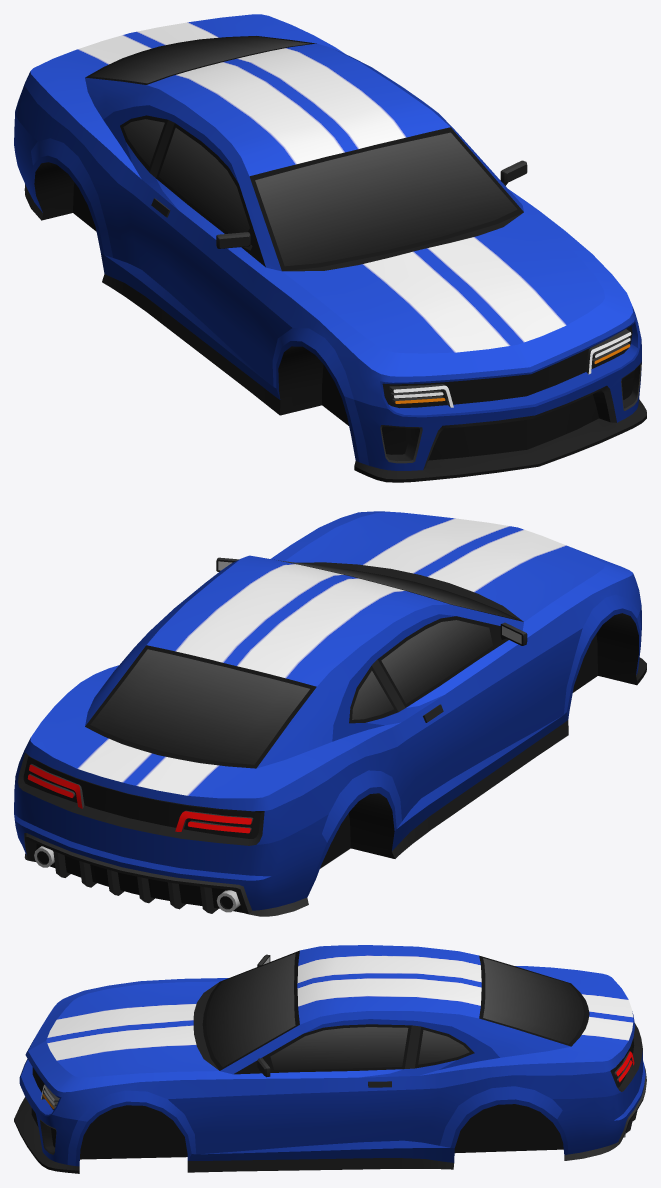
Rendered from BlueCar.fbx.
The picture shows the model from 3 angles, top to bottom: view 1: azimuth 30°, elevation 25°; view 2: azimuth 150°, elevation 25°; view 3: azimuth 270°, elevation 25°; orthographic projection. The views are drawn at different scales.
Visible parts, largest first — view 1: Body; view 2: Body; view 3: Body.
Boxes of the visible parts, x1=… form: Body: x1=14, y1=14, x2=646, y2=482; Body: x1=14, y1=511, x2=646, y2=916; Body: x1=14, y1=945, x2=646, y2=1173.
Size of the model in its own units: 7.21 by 4.3 by 16.87.
2 materials, 2 textured.
